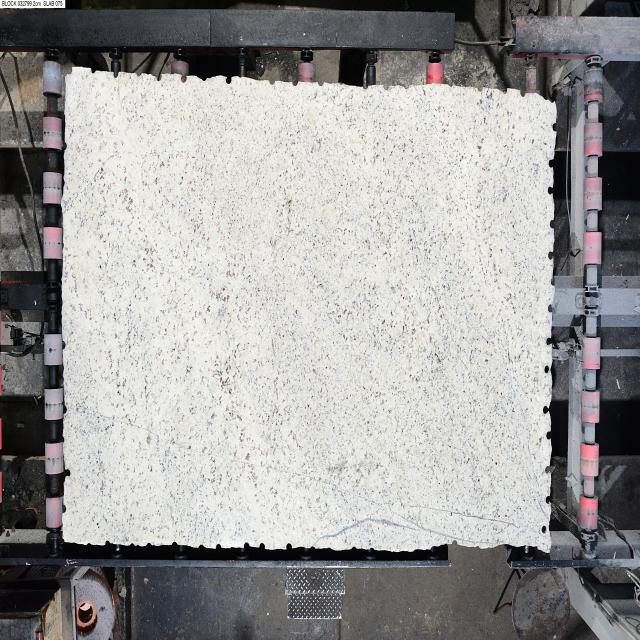chapa: (62, 69, 555, 551)
veio: (544, 149, 555, 172), (64, 66, 77, 82), (222, 72, 232, 88), (547, 299, 554, 319), (88, 63, 99, 75), (546, 182, 554, 198), (64, 466, 73, 480), (551, 120, 559, 134), (546, 248, 554, 262), (547, 216, 555, 229), (156, 70, 163, 84), (546, 333, 552, 349), (112, 69, 122, 78), (286, 540, 293, 552), (180, 73, 188, 83), (258, 542, 266, 552), (544, 363, 550, 375), (542, 404, 548, 416), (545, 494, 551, 506), (546, 428, 551, 441), (545, 464, 550, 476), (541, 524, 547, 534)
